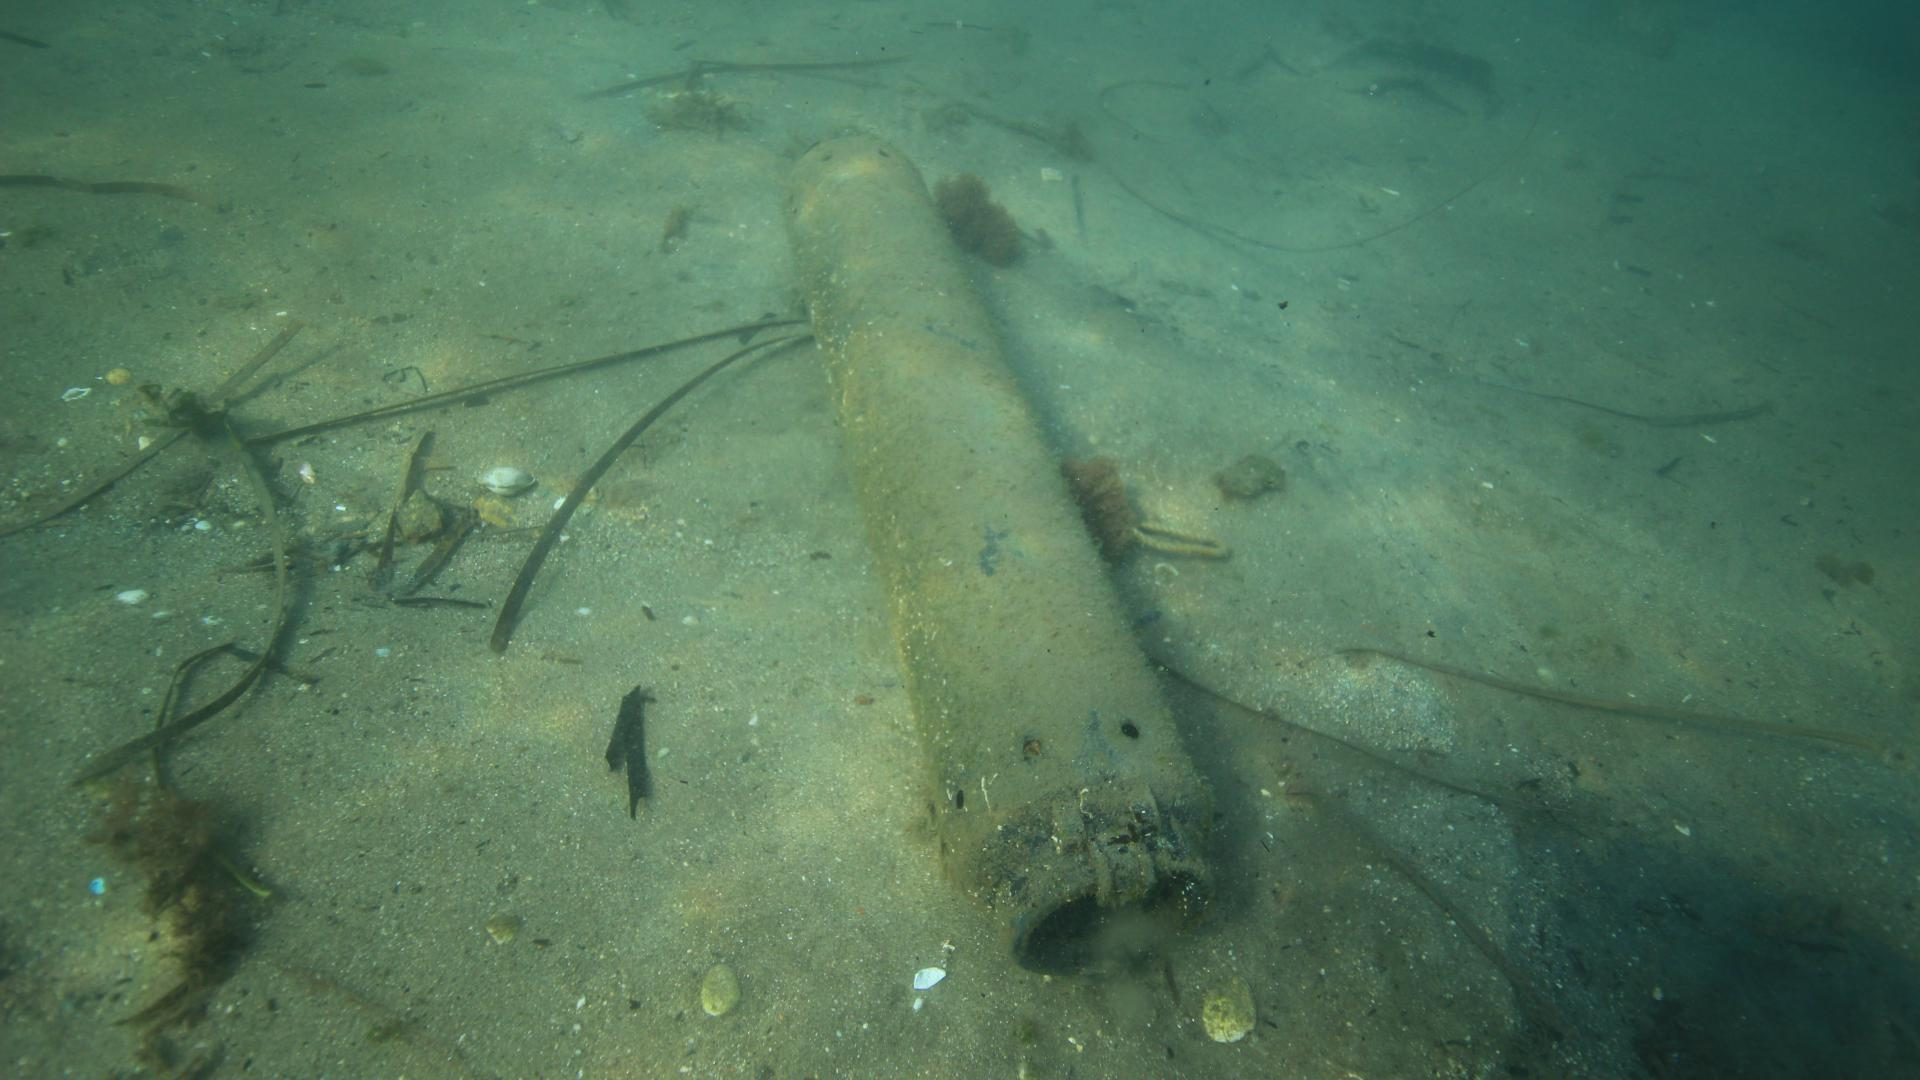eel fish trap: (783, 123, 1224, 982)
